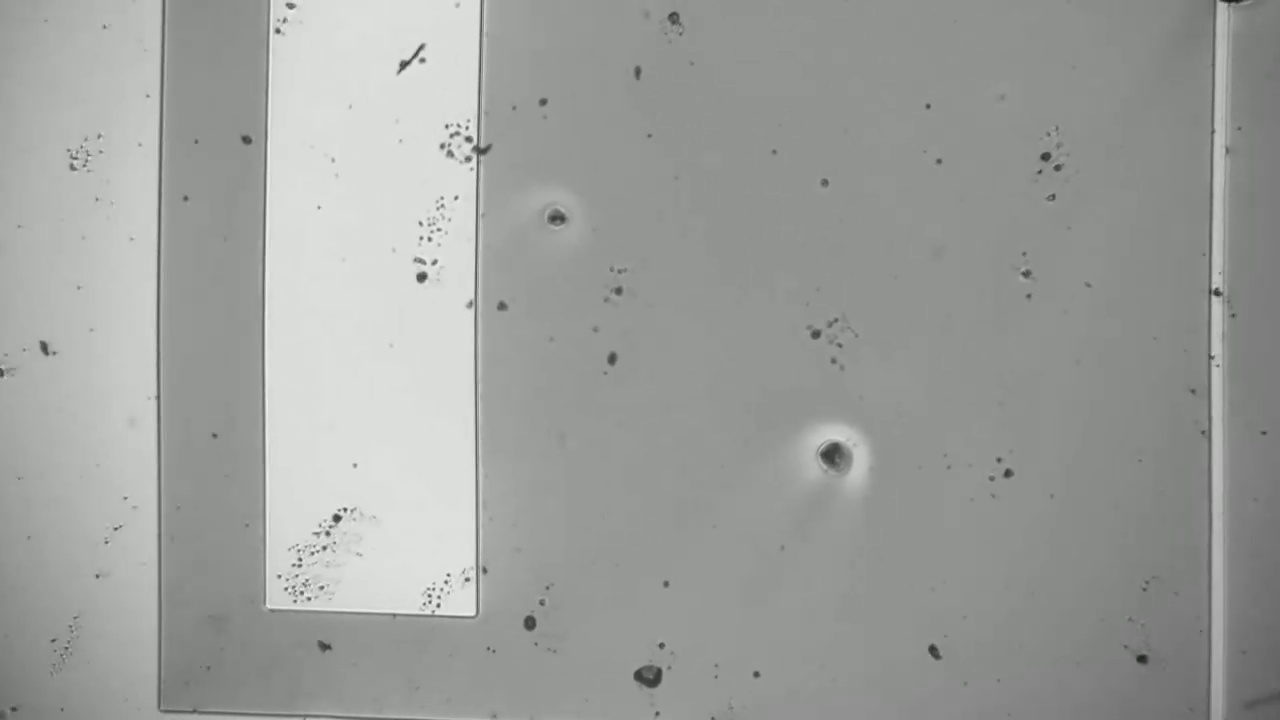stains_enbedded: (1203, 283, 1231, 303)
